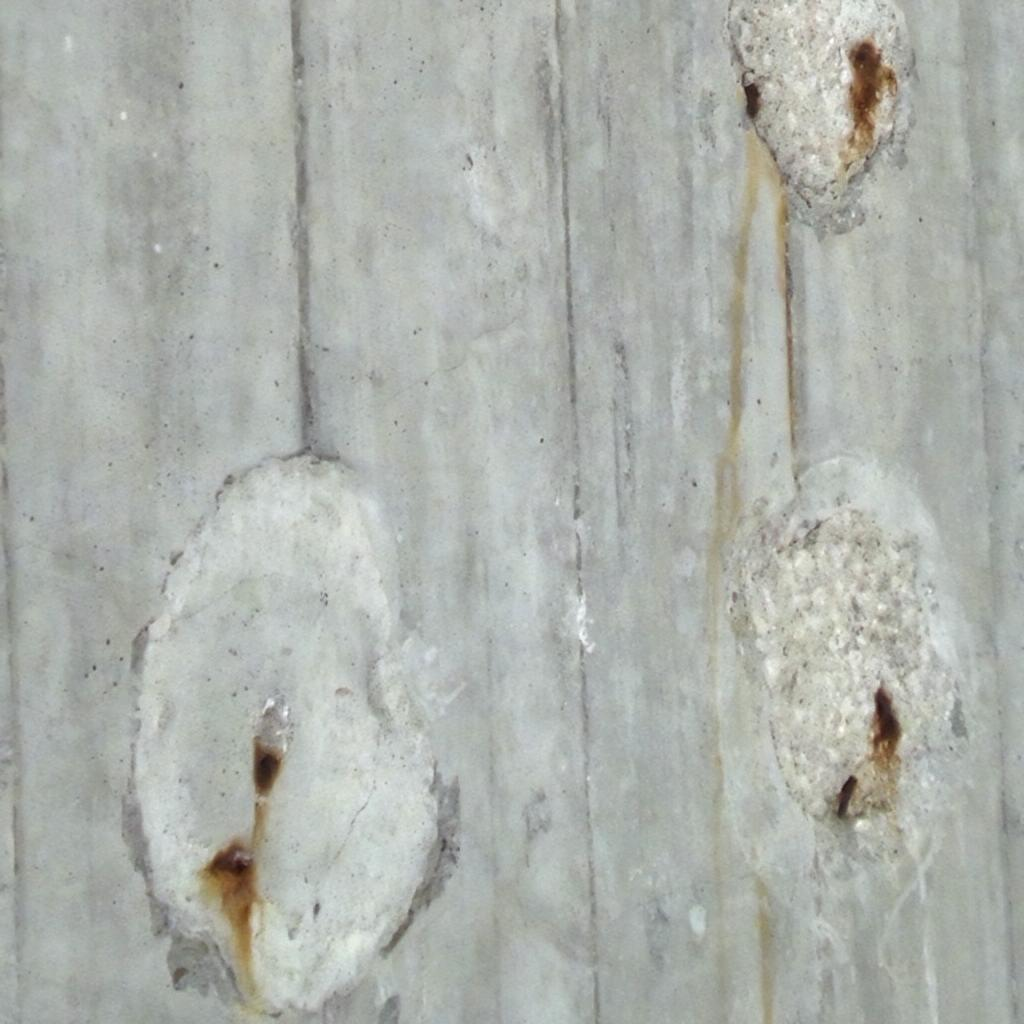exposed_rebar: (864, 686, 900, 772), (206, 844, 254, 875), (836, 774, 858, 818)
spalling: (132, 456, 438, 1012), (730, 462, 966, 863), (728, 0, 914, 231)
